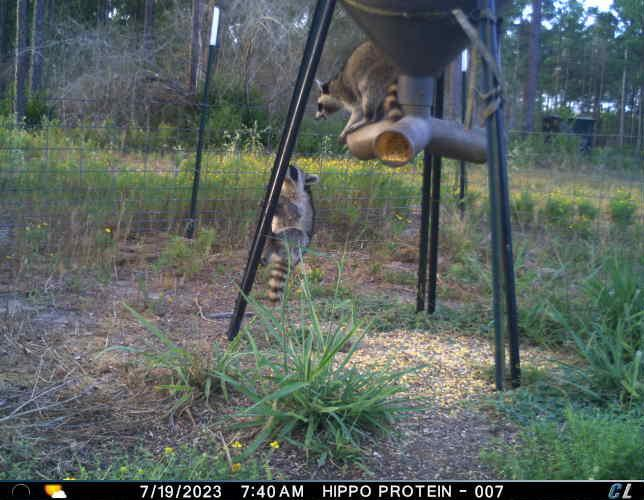Raccoon: (312, 35, 403, 143), (261, 161, 322, 307)
